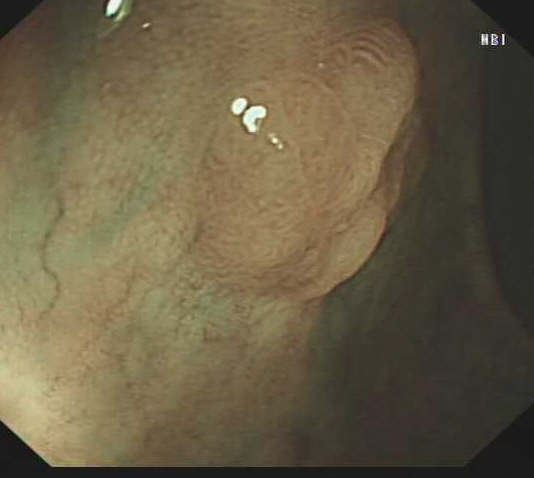adenoma: (189, 21, 421, 305)
